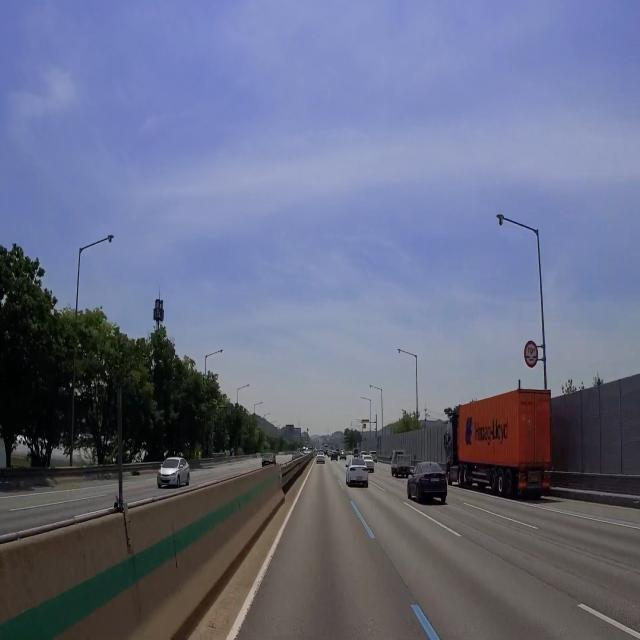car: (430, 475, 441, 484), (354, 475, 366, 483)
